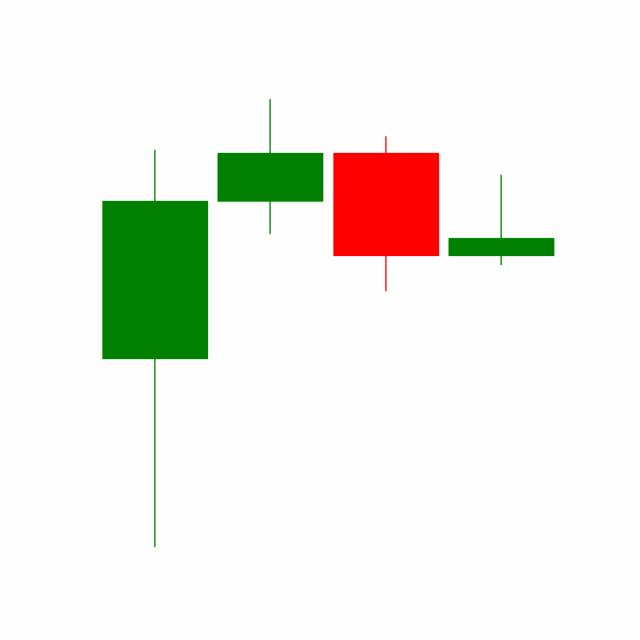Gravestone Doji: (443, 173, 559, 266)
